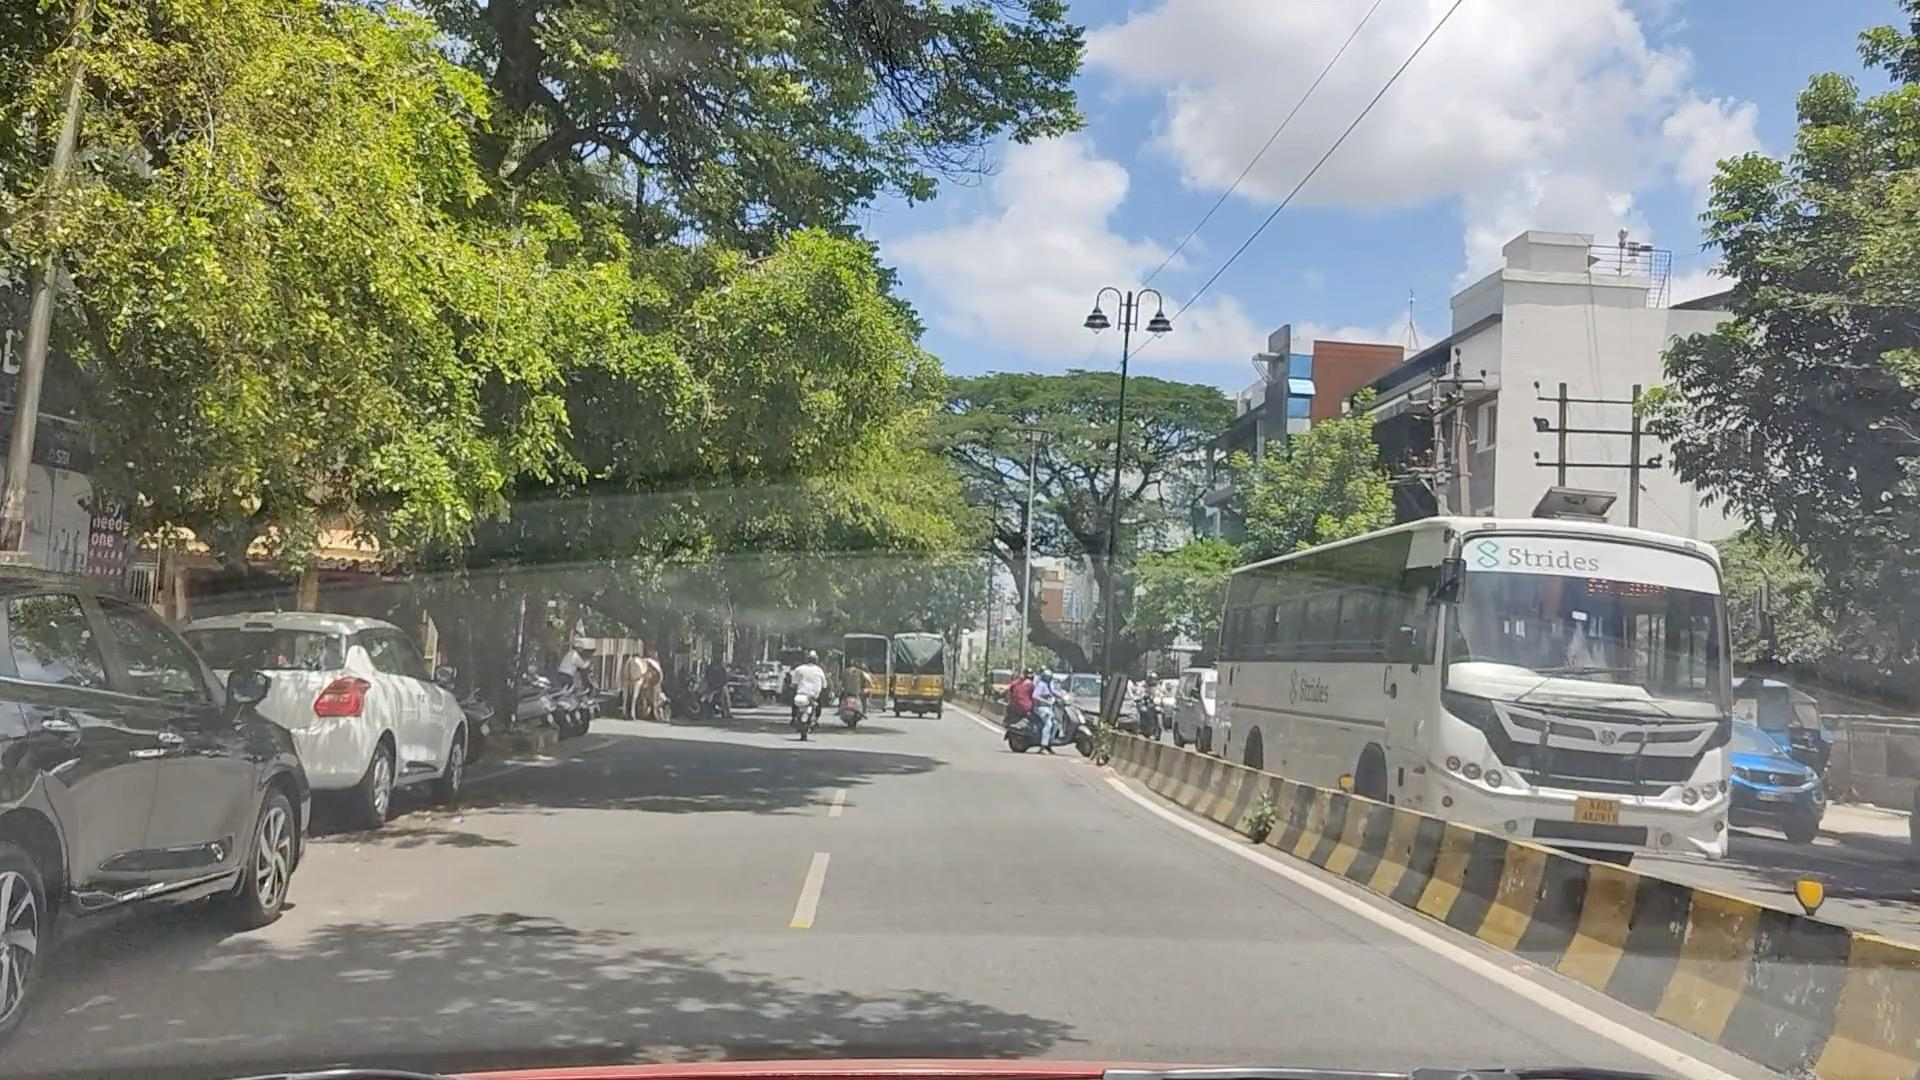LMV: (777, 644, 916, 782), (1019, 674, 1092, 764)
